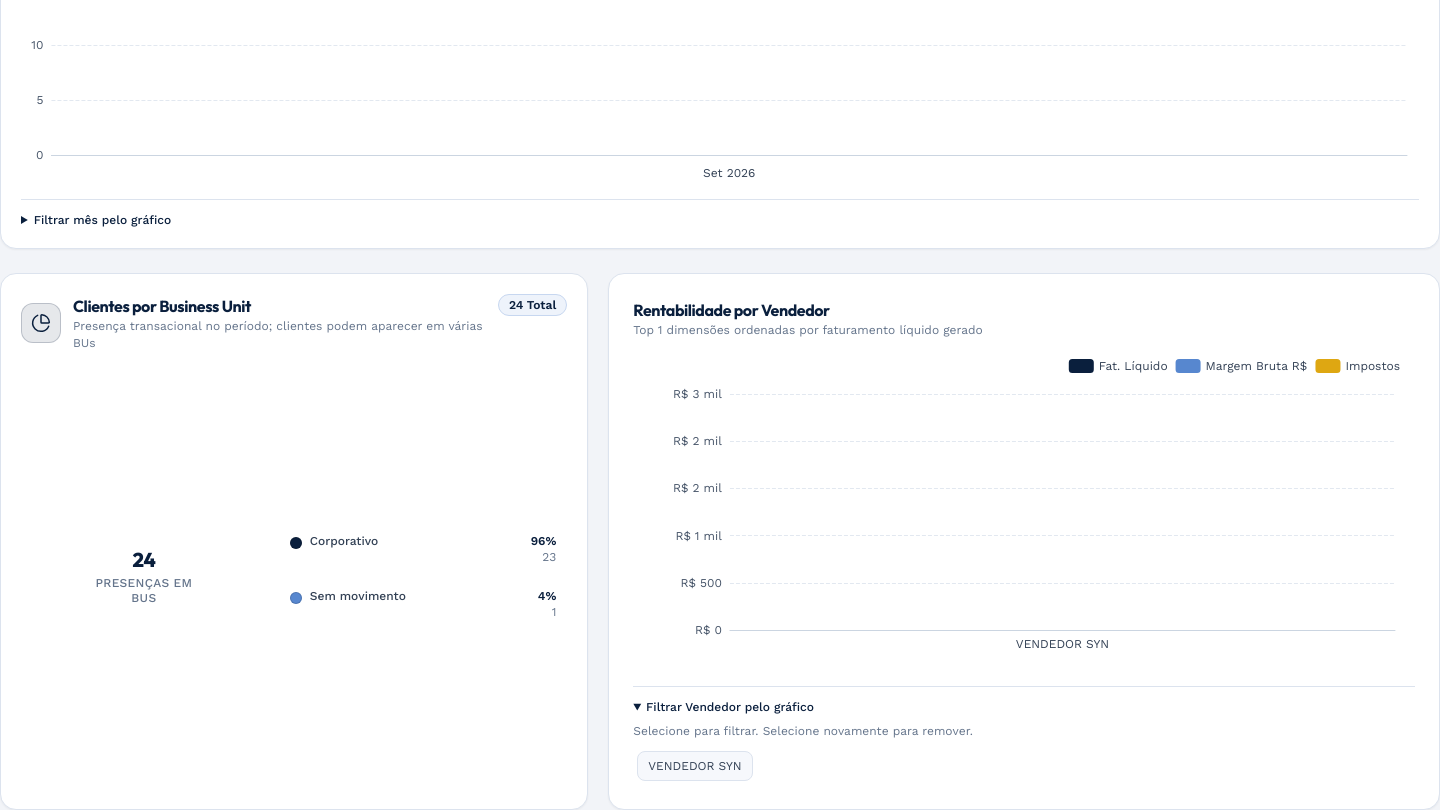
Test case: Filtros cruzados nas páginas com consultas reais e transporte sintético › combina vendedor e mês na aquisição e atualiza ambas as distribuições financeiras
(page scrolled)
Step 1. Click the button "VENDEDOR SYN" → (695,766), box [637,751,752,781]
(page scrolled)
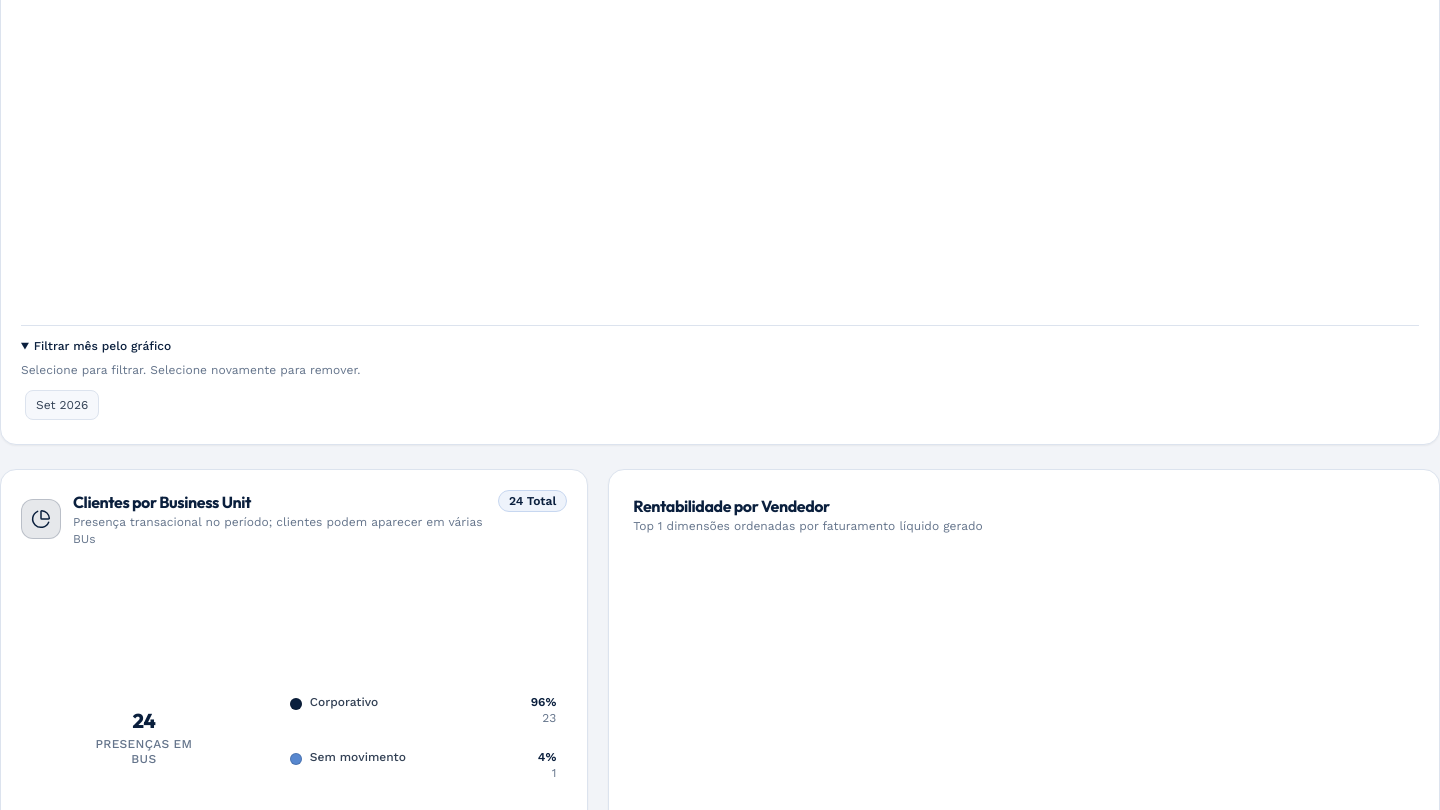
Step 2. Click the button "Set 2026" → (62,405), box [25,390,99,420]
(page scrolled)
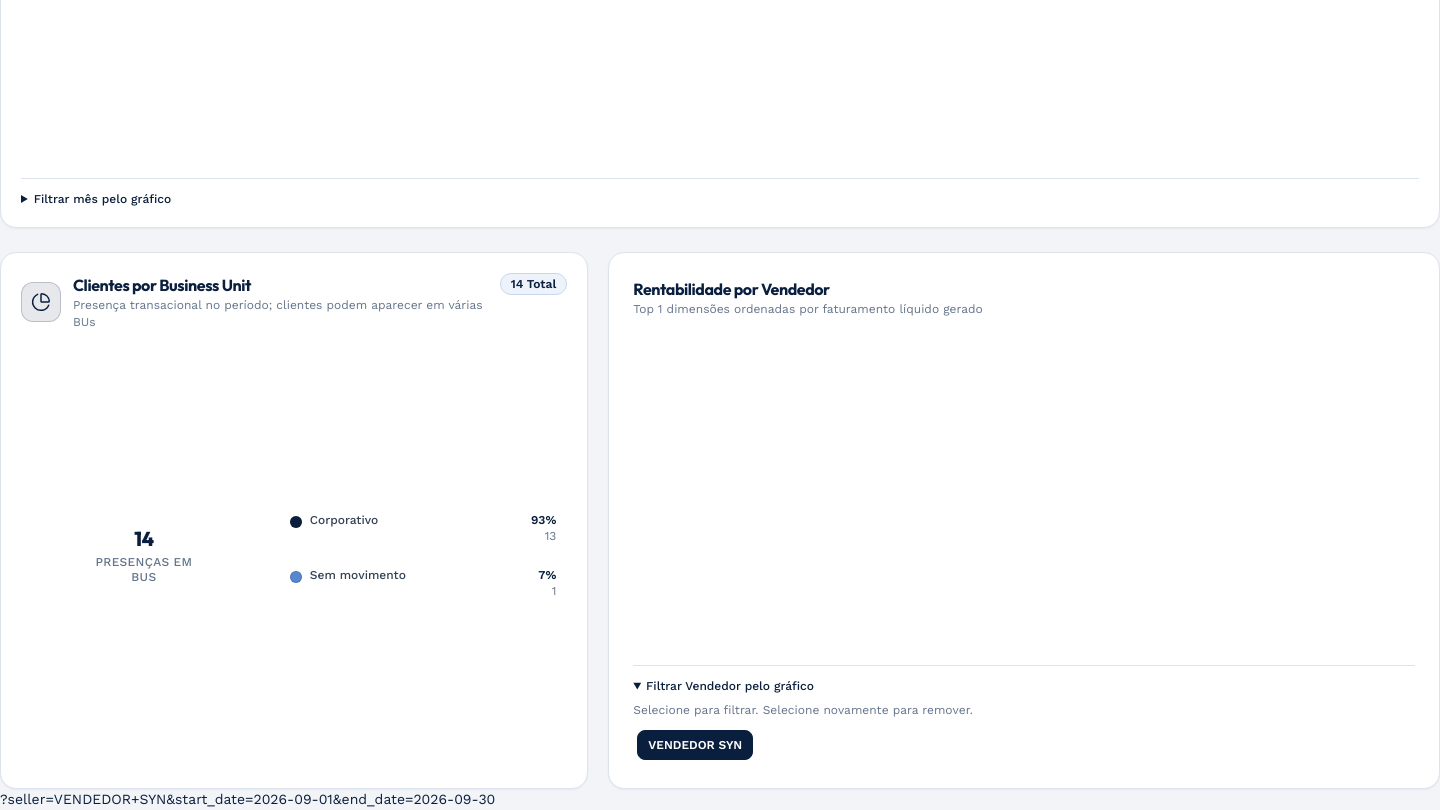
Step 3. Click the button "VENDEDOR SYN" → (695,745), box [637,730,753,760]
(page scrolled)
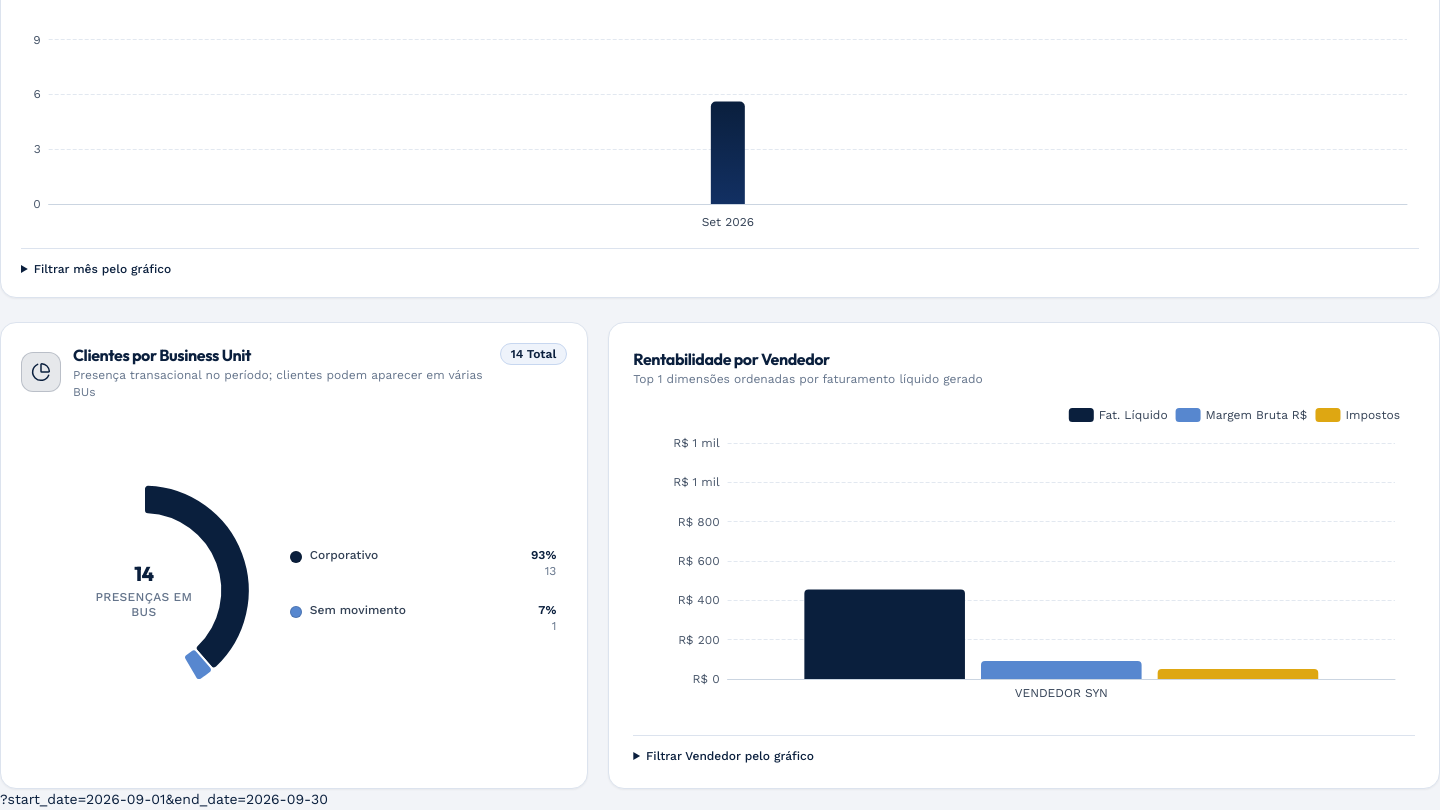
Expected: the text with test id "filter-location" shows "start_date=2026-09-01", [0,791,328,807]
Expected: the text with test id "filter-location" no longer shows "seller", [0,791,328,807]
